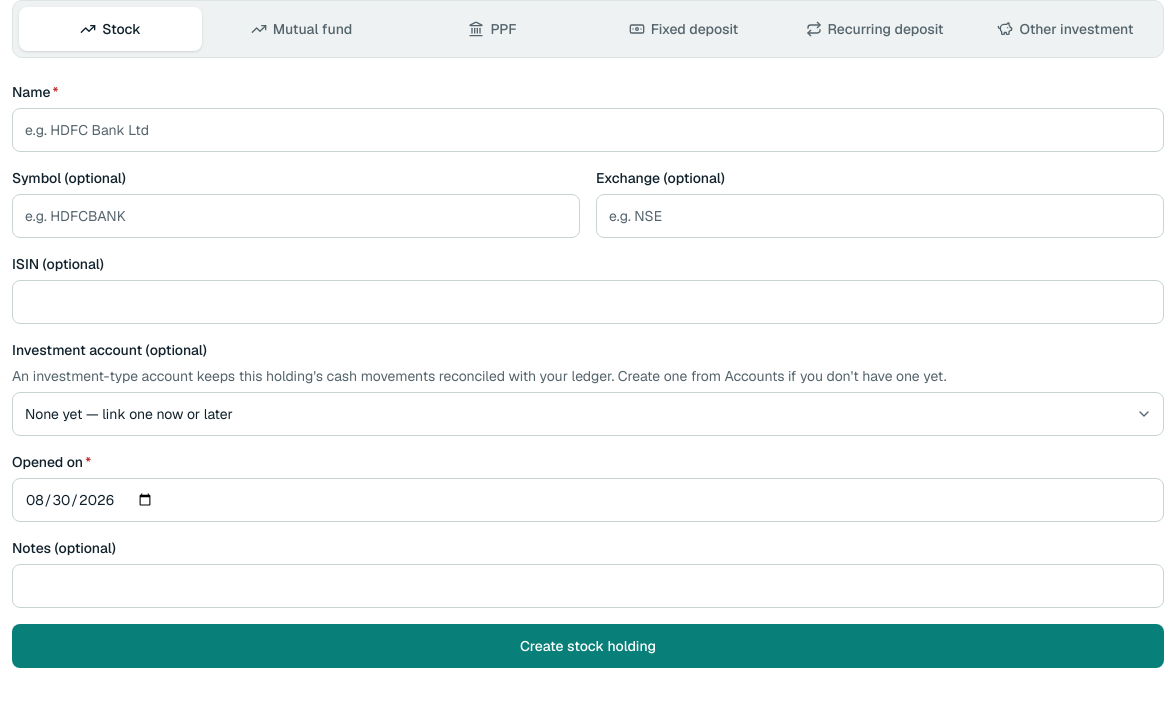
it: NewInvestmentForm › switches to the fixed deposit form, requiring principal, dates, and a funding account
The width and height of the screenshot is (1176, 711).
Step 1. Click the radio button labelled "Fixed deposit" → x=684, y=29, box [592,7,775,51]
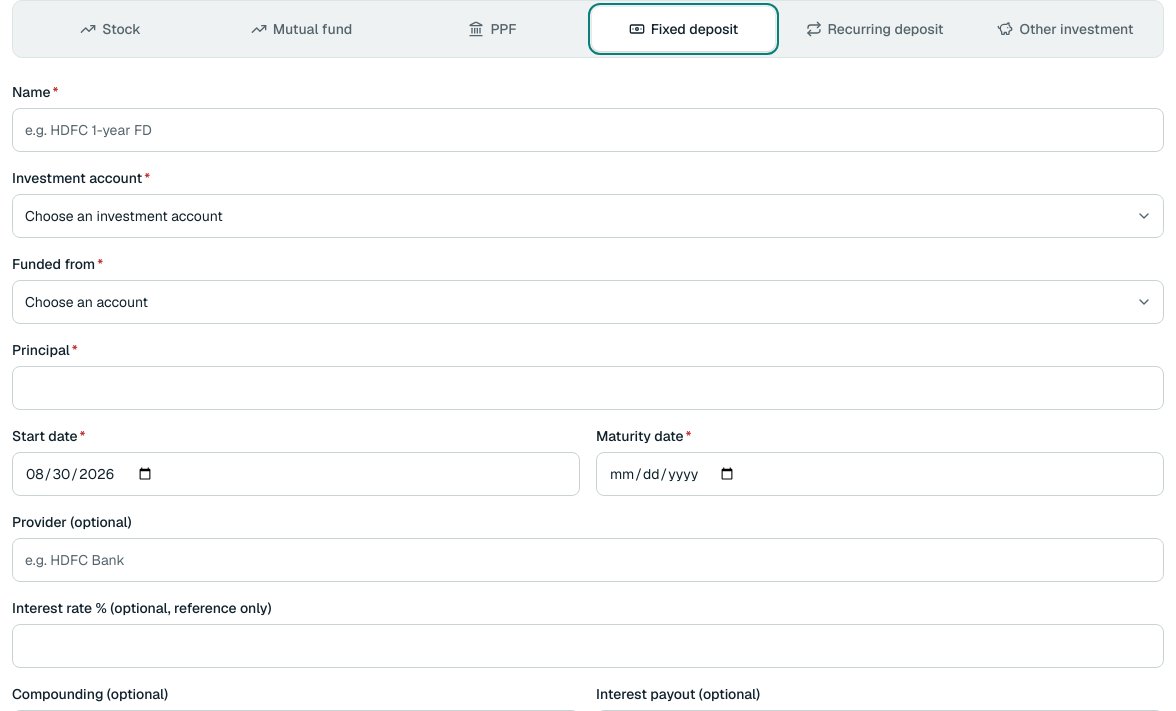
Check: the field labelled "Principal" is shown, box [12,366,1164,410]
Check: the dropdown labelled "Funded from" is shown, box [12,280,1164,324]
Check: the date field labelled "Maturity date" is shown, box [596,452,1164,496]
